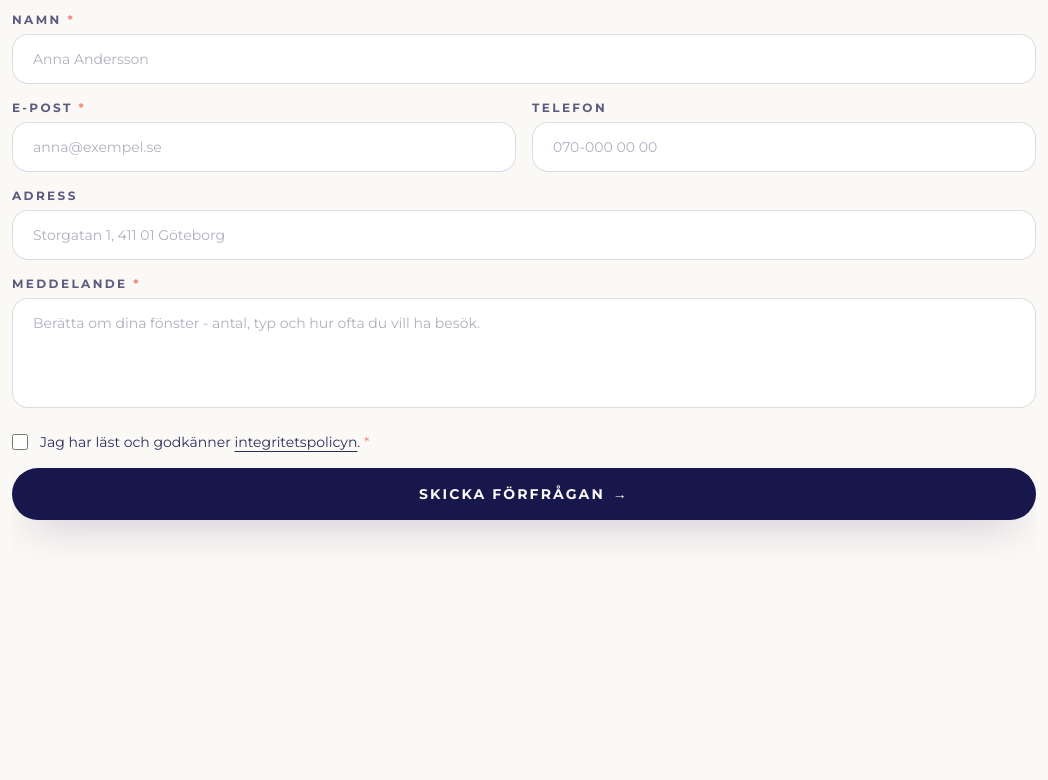
Test: ContactForm › shows invalid email error when email format is wrong
Type "Anna" into the field labelled "Namn *". click: point(524, 59)
box: [12,34,1036,84]
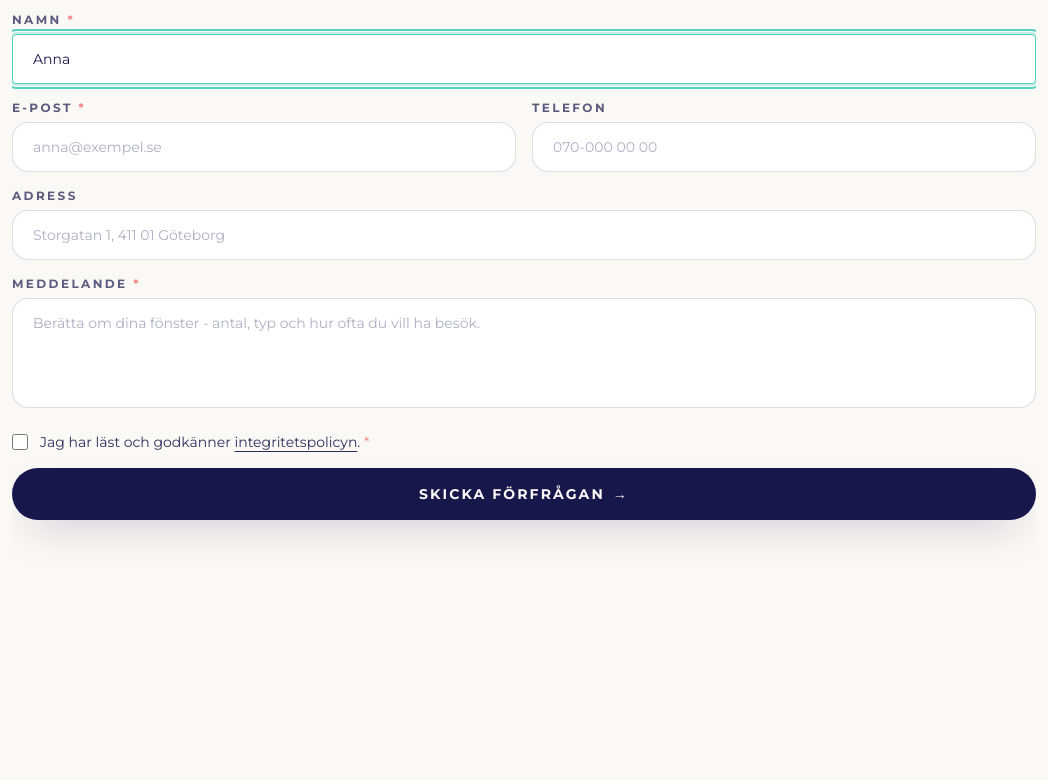
Type "inte-en-epost" into the field labelled "E-post *". click: point(264, 147)
box: [12,122,516,172]
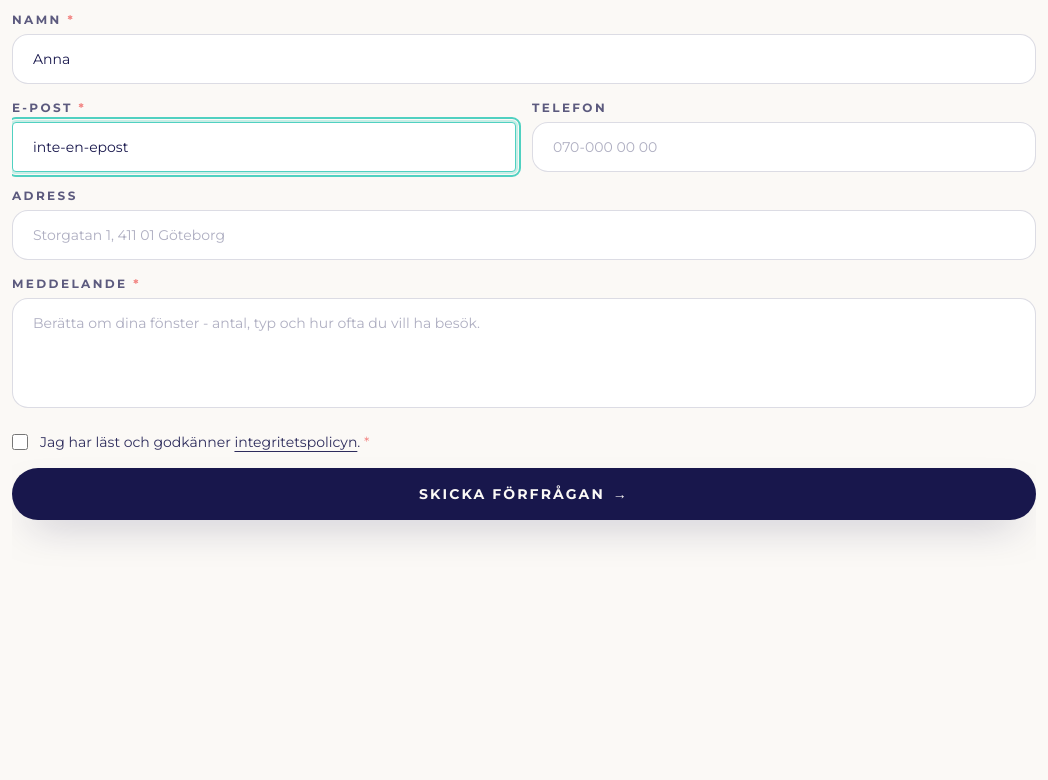
Type "Test" into the text box labelled "Meddelande *". click: point(524, 353)
box: [12,298,1036,408]
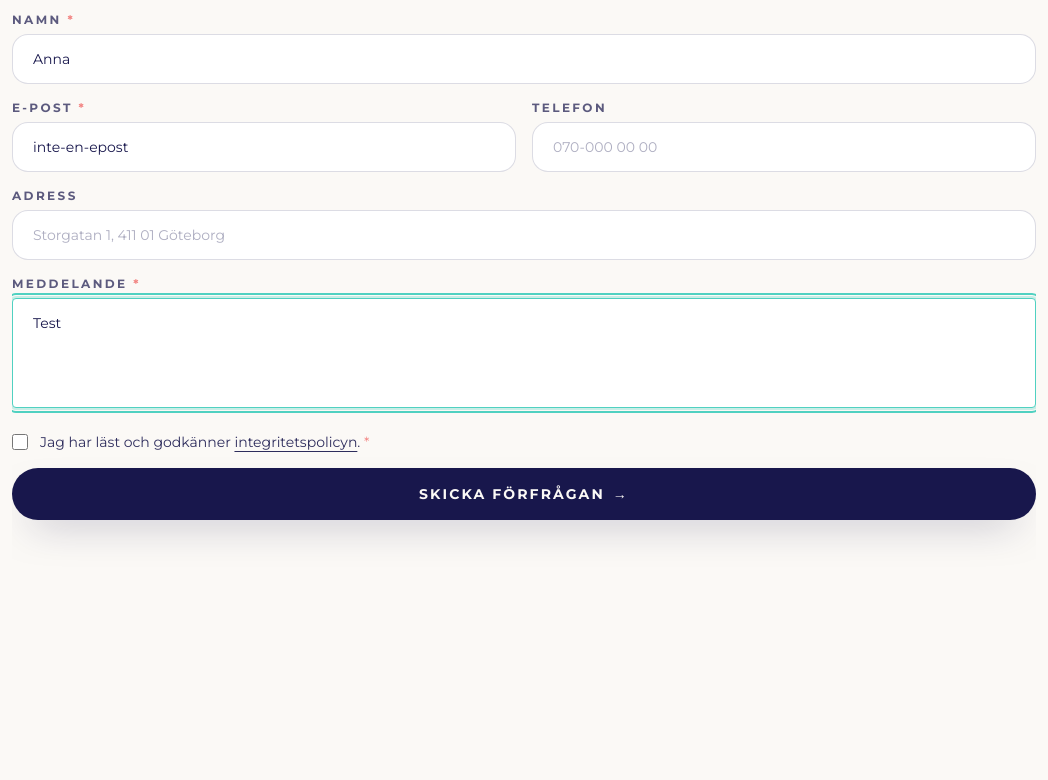
Click the button "Skicka förfrågan →". click: point(524, 494)
box: [12,468,1036,520]
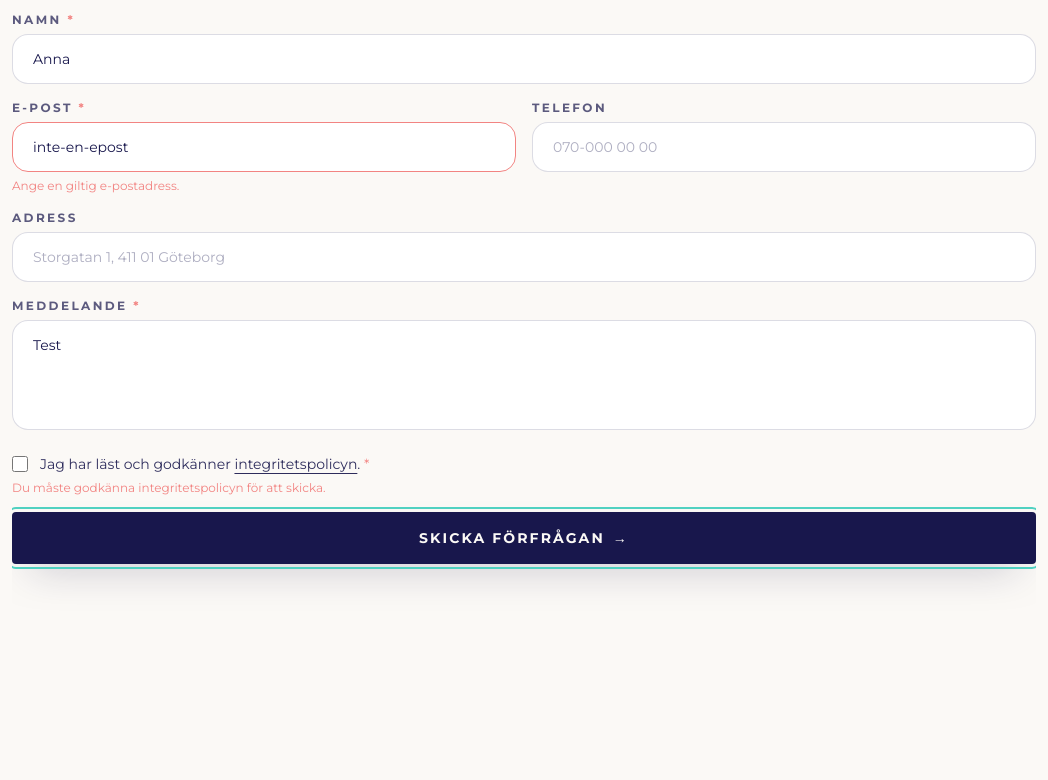
Result: the text "Ange en giltig e-postadress." is shown at [12,178,179,193]
